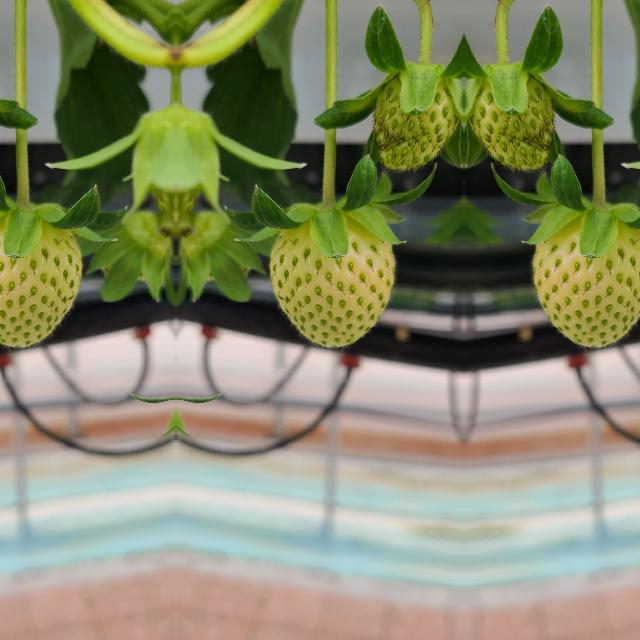Health_25: (266, 210, 396, 350), (529, 210, 640, 349), (0, 210, 84, 349), (372, 64, 456, 170), (470, 64, 554, 170)
